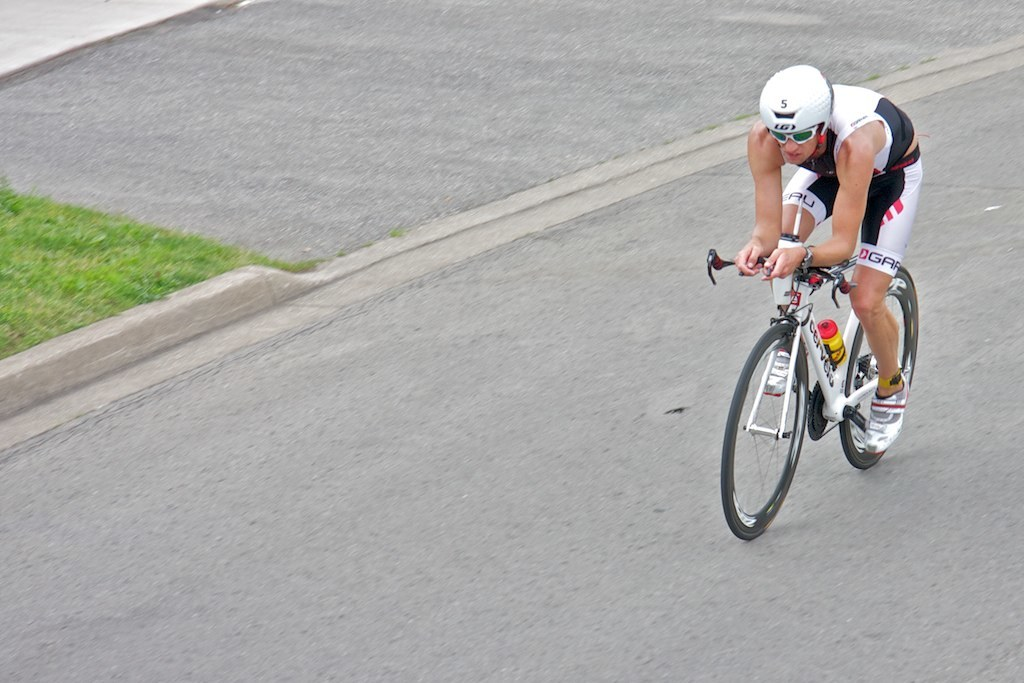Bike: (702, 237, 929, 540)
